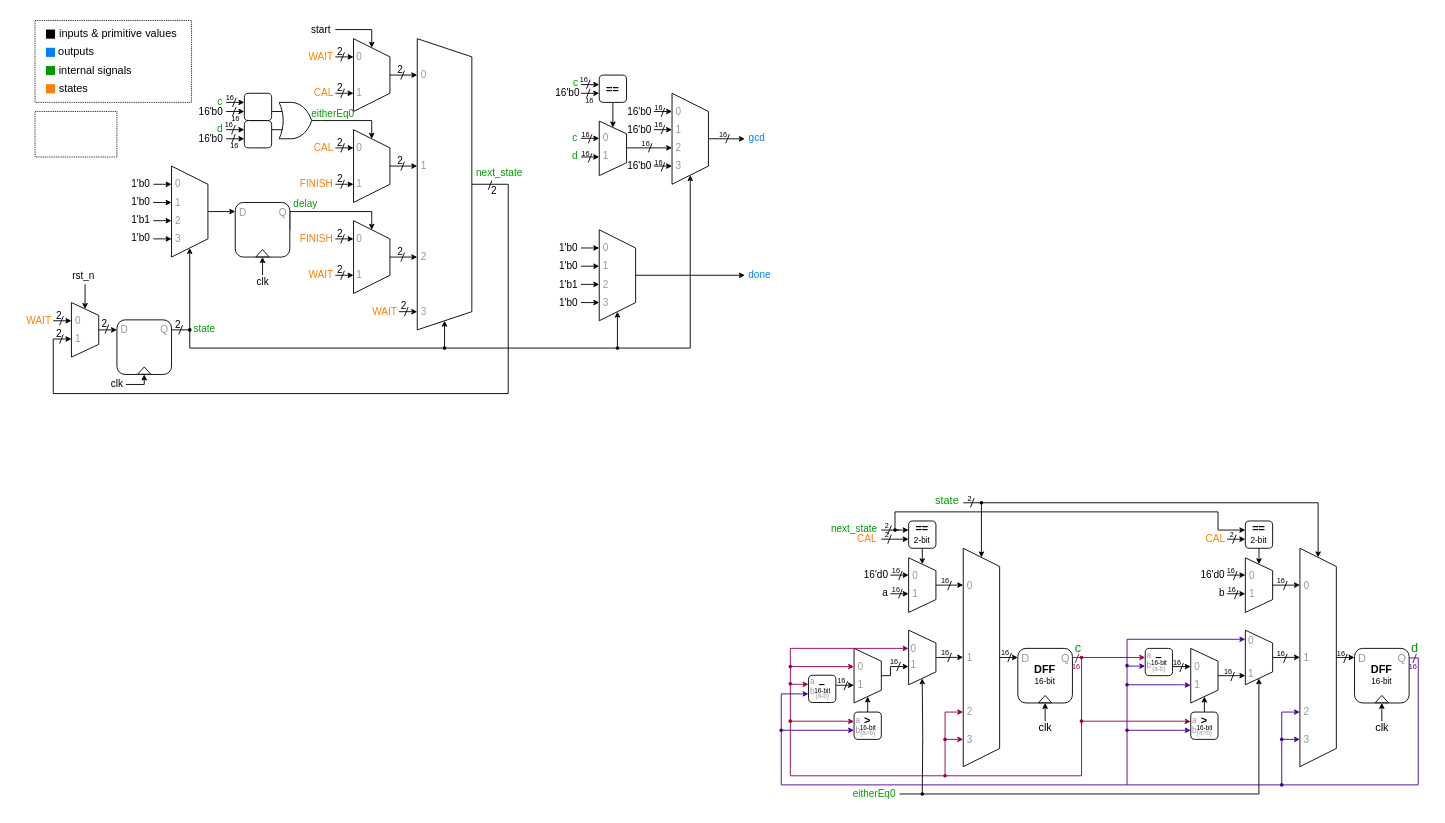
The diagram is 1445 pixels wide and 823 high, and some of its shapes have lost their labels. Here are the shapes that lost their labels. From the top down, the box of each, then its label:
(243, 92, 272, 121): == 16- bit
(34, 111, 117, 157): WAIT = 2'd0 CAL = 2'd1 FINISH = 2'd2
(243, 120, 272, 148): == 16-bit
(234, 202, 290, 257): DFF
(116, 319, 172, 374): DFF 2-bit
